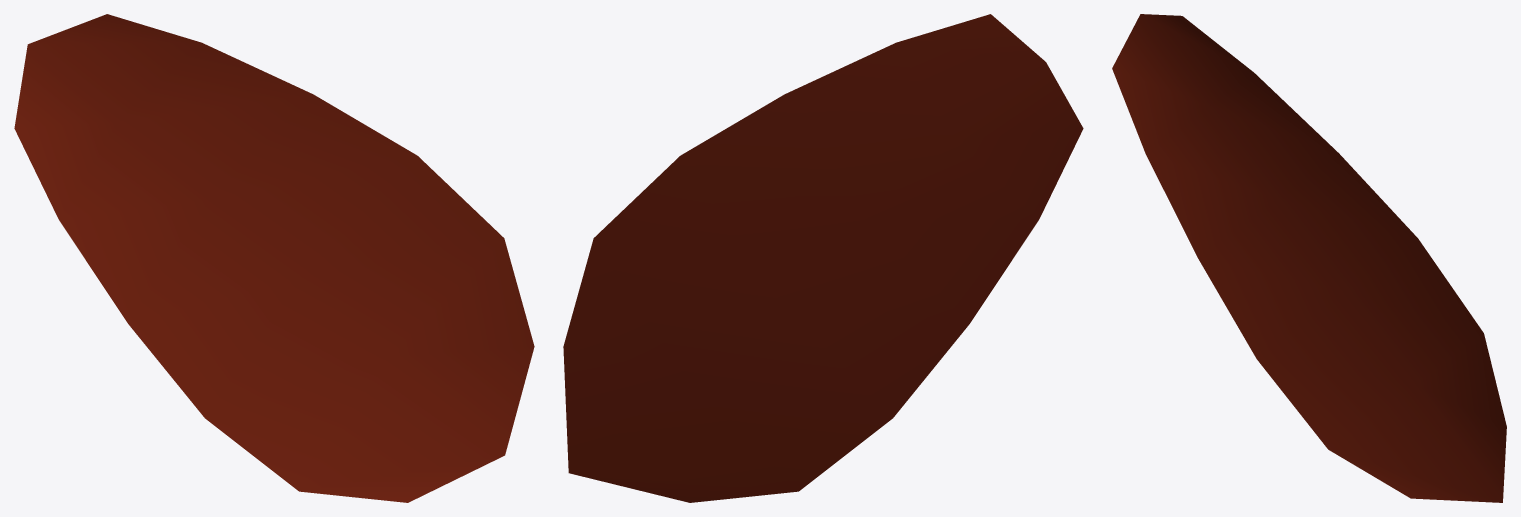
Rendered from pheasant_feather_flight_tertiary_078.obj.
3 views of the same model, side by side, from view 1: azimuth 30°, elevation 25°; view 2: azimuth 150°, elevation 25°; view 3: azimuth 330°, elevation 25° (orthographic). The views are drawn at different scales.
Parts seen in each view (by area): view 1: feather_flight_tertiary_078; view 2: feather_flight_tertiary_078; view 3: feather_flight_tertiary_078.
Boxes of the visible parts, x1,y1,x2,y2 form: feather_flight_tertiary_078: (14, 14, 534, 502); feather_flight_tertiary_078: (563, 14, 1083, 502); feather_flight_tertiary_078: (1112, 14, 1506, 502).
Bounding box in the file's own units: 0.0157 × 0.0163 × 0.000634.
